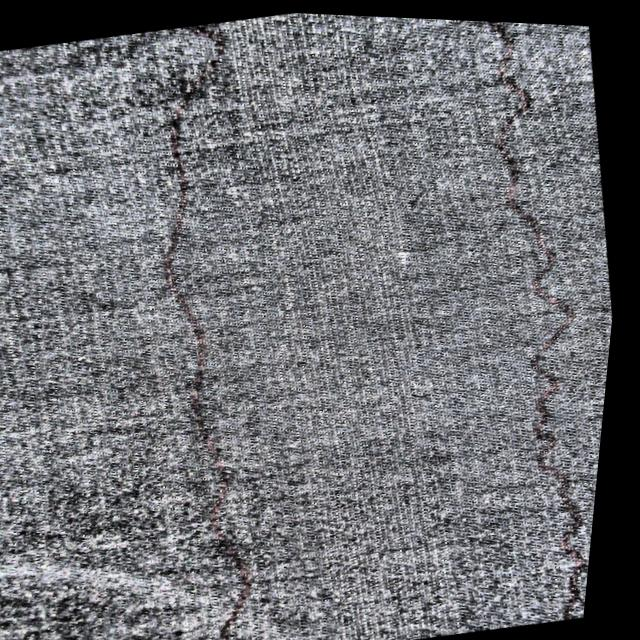Hole: (223, 10, 473, 640)
